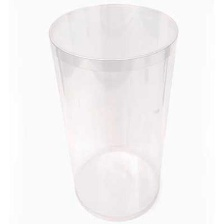plastic_box: (42, 0, 184, 223)
